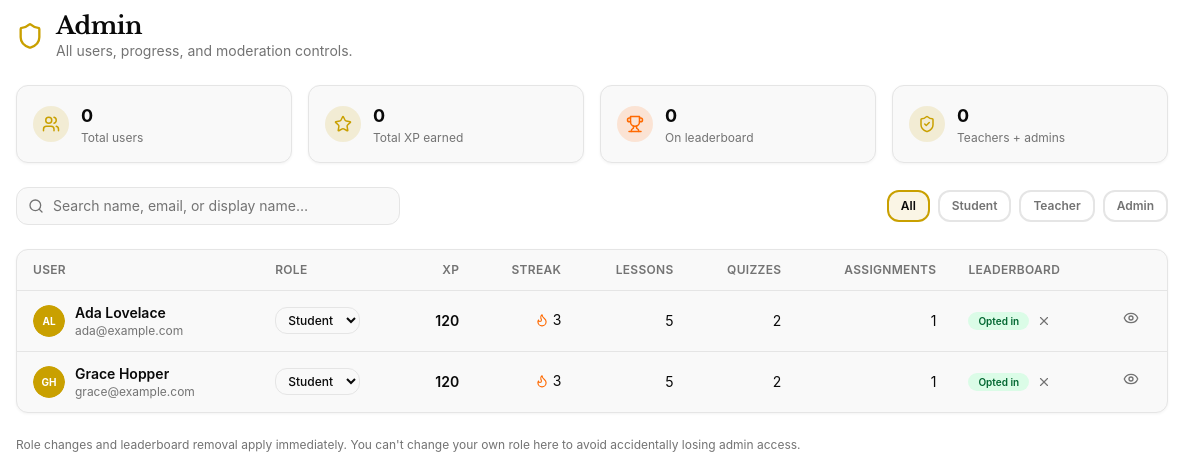
Scenario: AdminDashboard › filters the table by search query
Type "grace" into the field with placeholder "Search name, email, or display name…" at (208, 206), box [16,187,400,225]
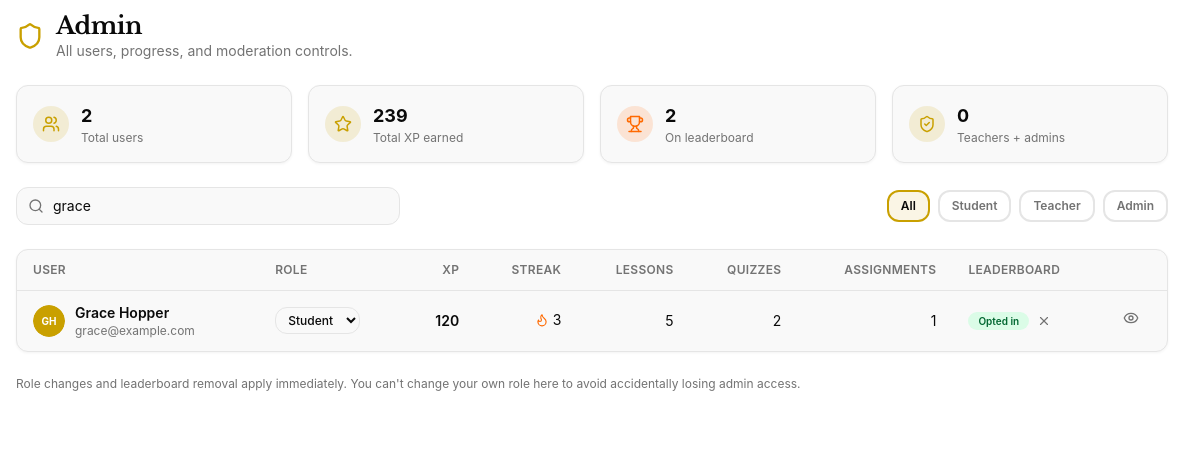
Expected: the text "Grace Hopper" is shown, [75,303,169,323]
Now the text "Ada Lovelace" is gone
